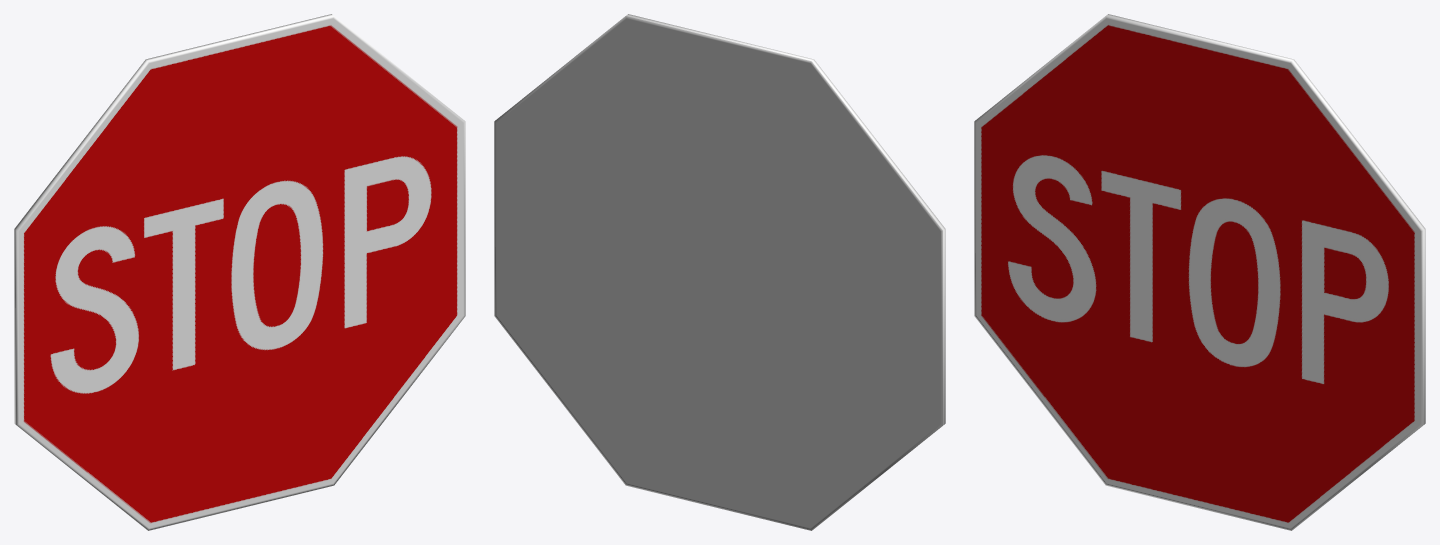
File: StopSign.fbx
The picture shows the model from 3 angles, left to right: view 1: azimuth 30°, elevation 25°; view 2: azimuth 150°, elevation 25°; view 3: azimuth 330°, elevation 25°; orthographic projection.
Parts seen in each view (by area): view 1: Sign_LOD0; view 2: Sign_LOD0; view 3: Sign_LOD0.
Boxes of the visible parts, x1,y1,x2,y2 form: Sign_LOD0: [14, 14, 465, 530]; Sign_LOD0: [494, 14, 945, 530]; Sign_LOD0: [974, 14, 1425, 530].
Size of what is drawn, in the model's own units: 185 by 185 by 1.87.
